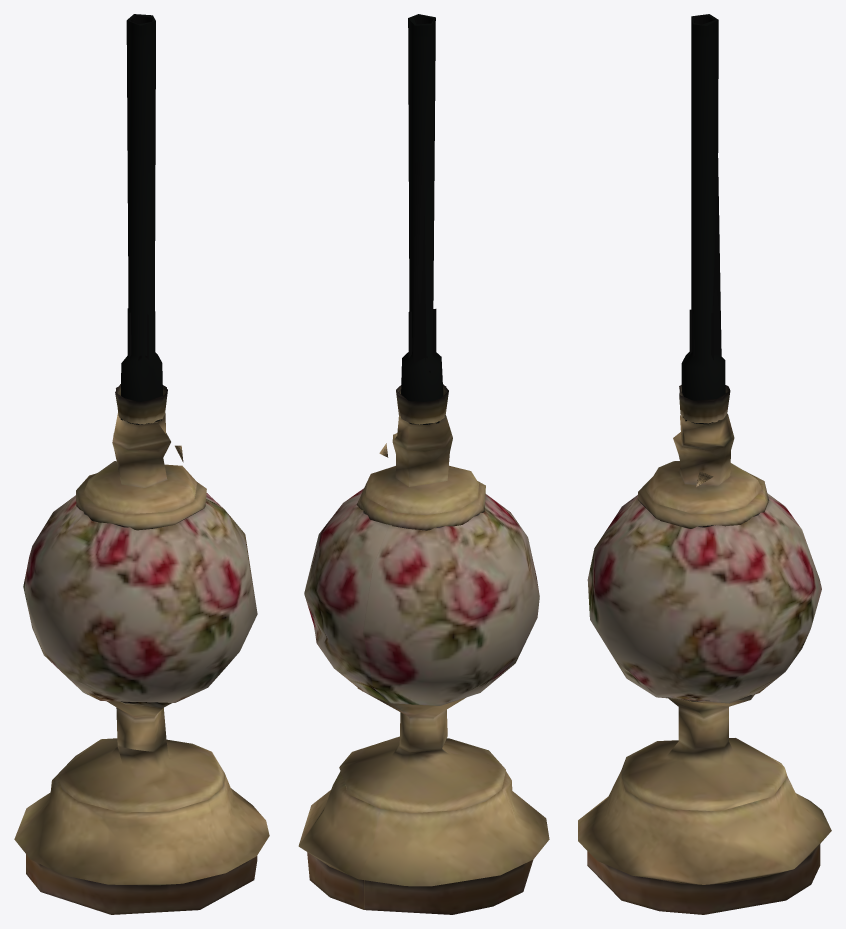
The model's file is oillamp.glb.
3 renders of one model, left to right at view 1: azimuth 30°, elevation 25°; view 2: azimuth 150°, elevation 25°; view 3: azimuth 270°, elevation 25°, orthographic.
Parts seen in each view (by area): view 1: vintage_oil_lamp, vintage_oil_lamp_glass; view 2: vintage_oil_lamp, vintage_oil_lamp_glass; view 3: vintage_oil_lamp, vintage_oil_lamp_glass.
Boxes of the visible parts, bbox=[...] form: vintage_oil_lamp: bbox=[14, 413, 269, 914]; vintage_oil_lamp_glass: bbox=[115, 14, 167, 424]; vintage_oil_lamp: bbox=[298, 414, 549, 914]; vintage_oil_lamp_glass: bbox=[396, 14, 448, 424]; vintage_oil_lamp: bbox=[578, 414, 831, 914]; vintage_oil_lamp_glass: bbox=[679, 14, 730, 424].
Size of the model in its own units: 0.22 by 0.8016 by 0.2179.
Materials: 3 (3 with a texture image).
